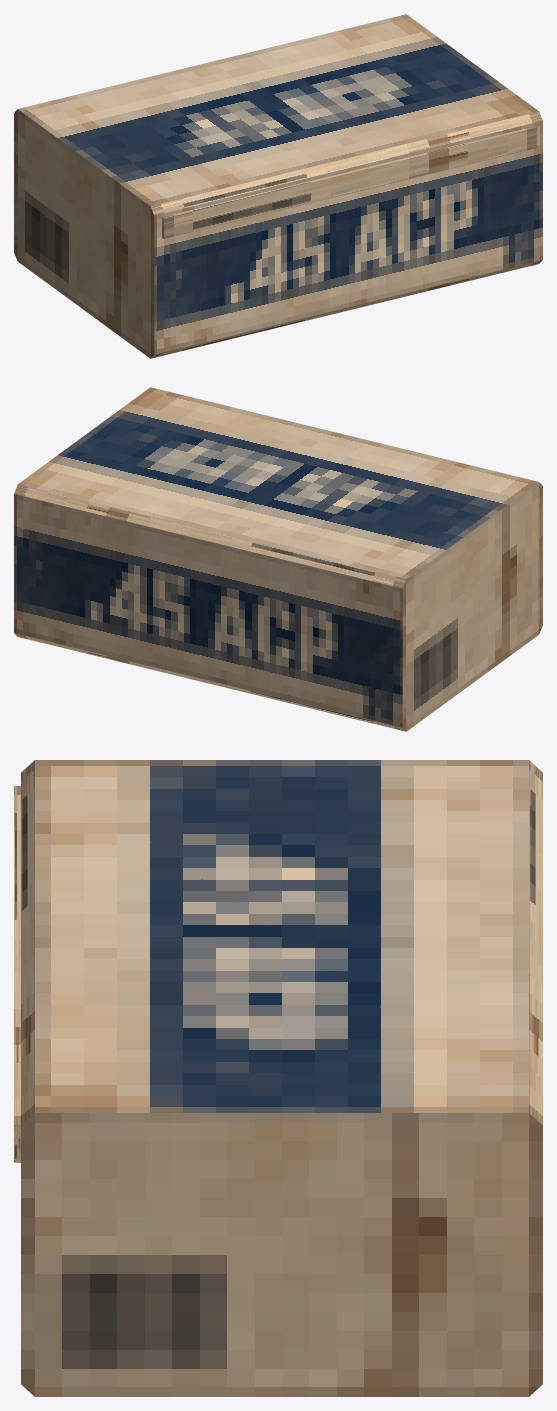
The model's file is pistol.glb.
3 renders of one model, top to bottom at view 1: azimuth 30°, elevation 25°; view 2: azimuth 150°, elevation 25°; view 3: azimuth 270°, elevation 25°, orthographic. The views are drawn at different scales.
Parts seen in each view (by area): view 1: Carton; view 2: Carton; view 3: Carton.
Part boxes in pixels (box(x1,y1,x2,y2)): Carton: box(14, 14, 542, 358); Carton: box(14, 387, 542, 731); Carton: box(14, 760, 542, 1396).
Size of the model in its own units: 0.12 by 0.045 by 0.076.
1 material, 1 textured.
